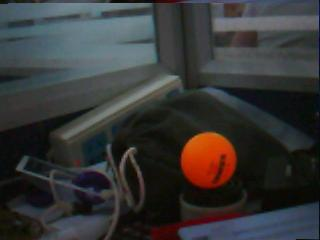oball: (179, 132, 237, 187)
